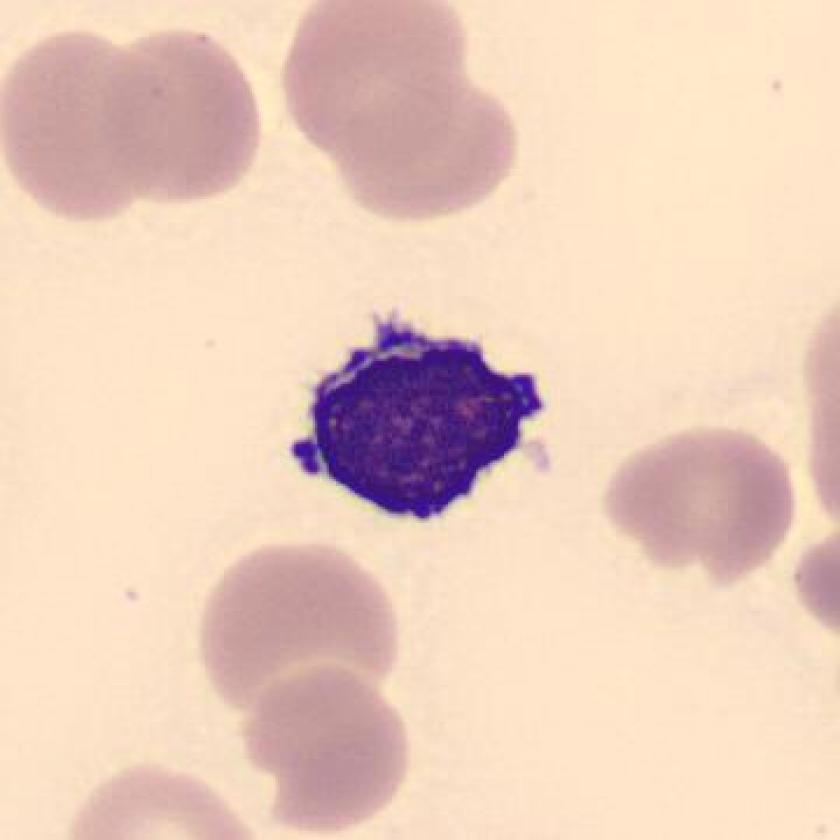lymphocyte: (281, 304, 559, 538)
